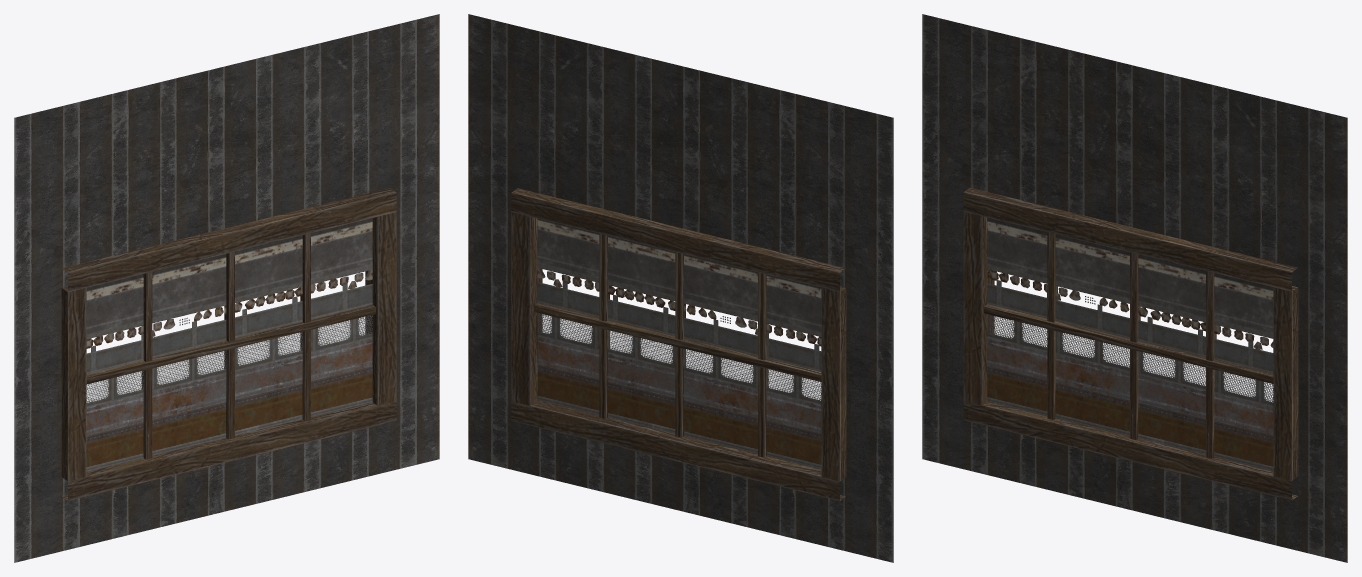
The model's file is long_window_glass.fbx.
The picture shows the model from 3 angles, left to right: view 1: azimuth 30°, elevation 25°; view 2: azimuth 150°, elevation 25°; view 3: azimuth 330°, elevation 25°; orthographic projection.
Visible parts, largest first — view 1: long_window_glass; view 2: long_window_glass; view 3: long_window_glass.
Part boxes in pixels (<box>): long_window_glass: <box>14,14,439,562</box>; long_window_glass: <box>468,14,893,562</box>; long_window_glass: <box>922,14,1347,562</box>.
Size of the model in its own units: 400 by 400 by 20.34.
